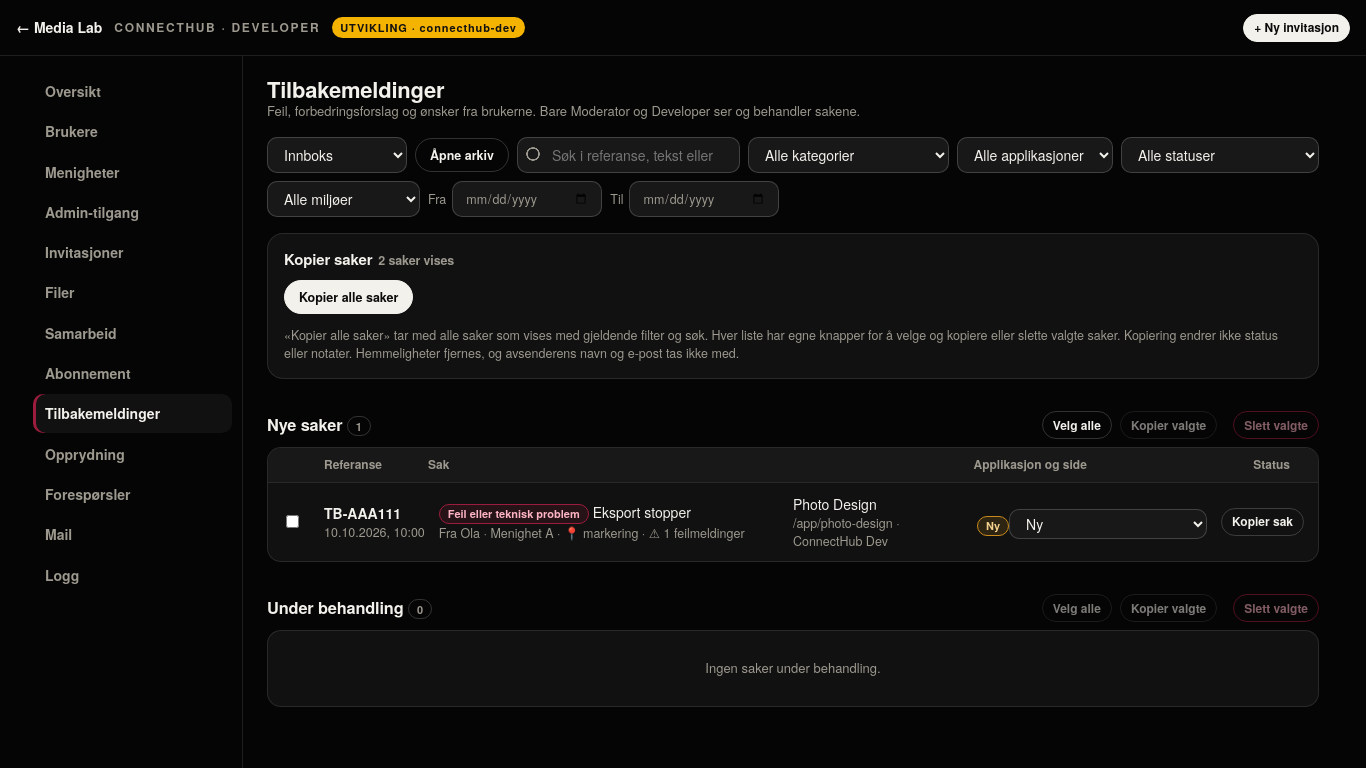
it: Tilbakemeldinger (ADM-12) › «Kopier sak» legger strukturert, renset tekst på utklippstavlen uten å endre saken
Expected: the text "TB-AAA111" is shown, [324, 503, 401, 523]
Click the button "Kopier sak" at [1263, 522], box [1221, 508, 1304, 536]
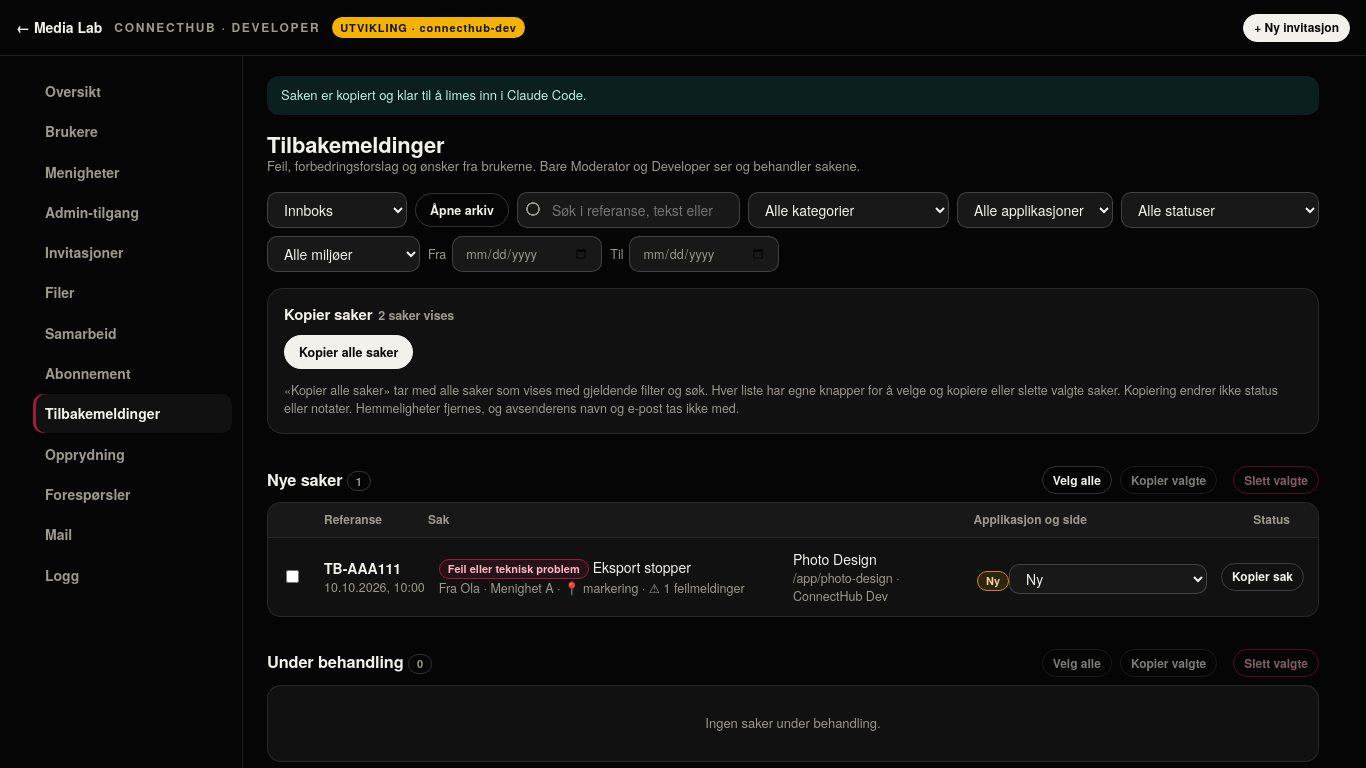
Expected: the message reads "Saken er kopiert og klar til å limes inn i Claude Code.", [281, 85, 586, 104]
